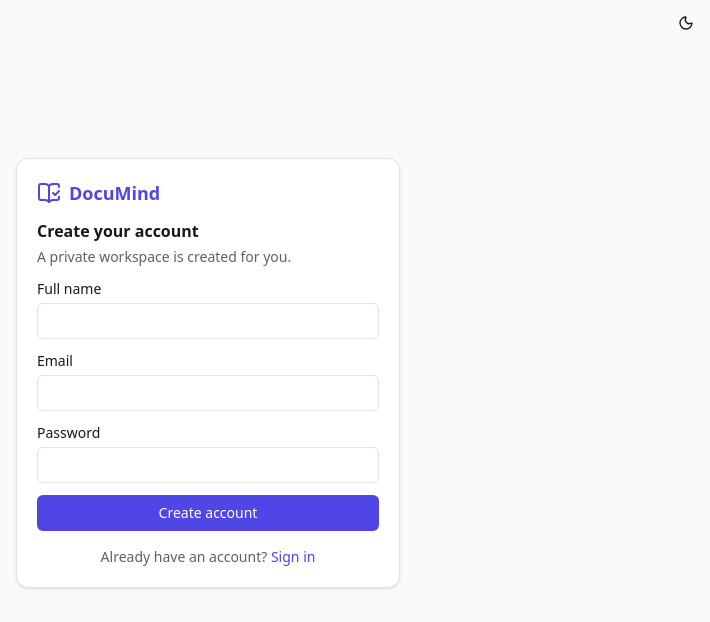
Scenario: AuthForm › shows the server error message on failure
Type "Ada" into the field labelled "Full name". click: {"x": 208, "y": 321}
box: [37,303,379,339]
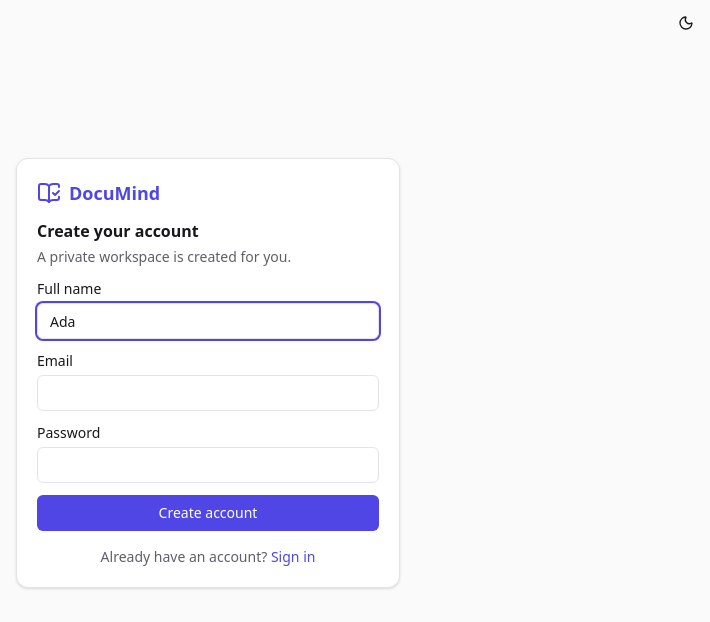
Type "ada@example.com" into the field labelled "Email". click: {"x": 208, "y": 393}
box: [37,375,379,411]
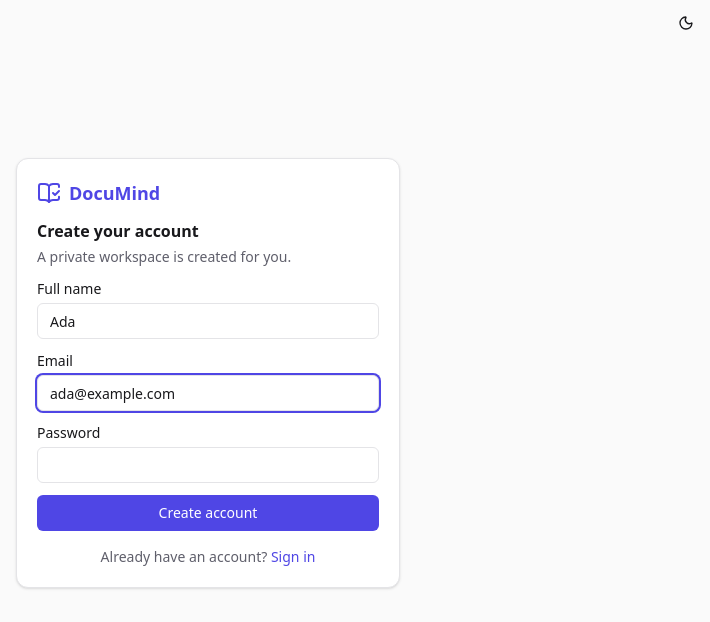
Type "longpassword" into the password field labelled "Password". click: {"x": 208, "y": 465}
box: [37,447,379,483]
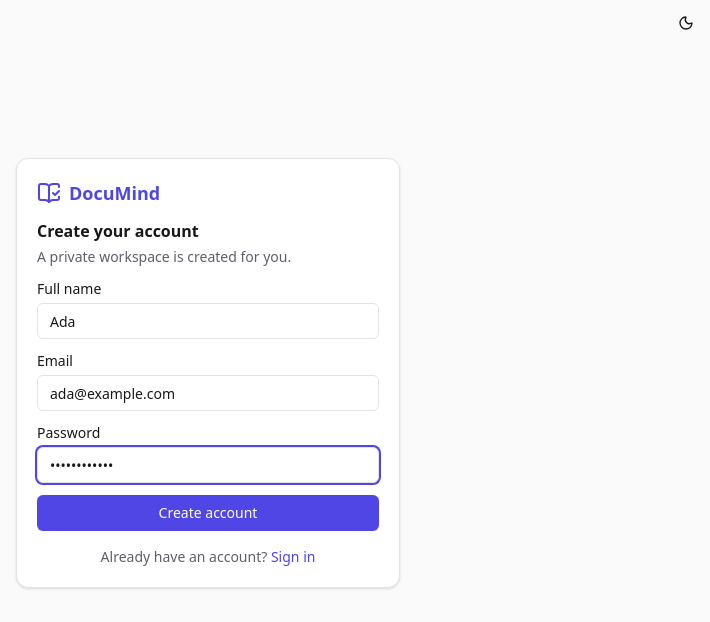
Click the button "Create account". click: {"x": 208, "y": 513}
box: [37,495,379,531]
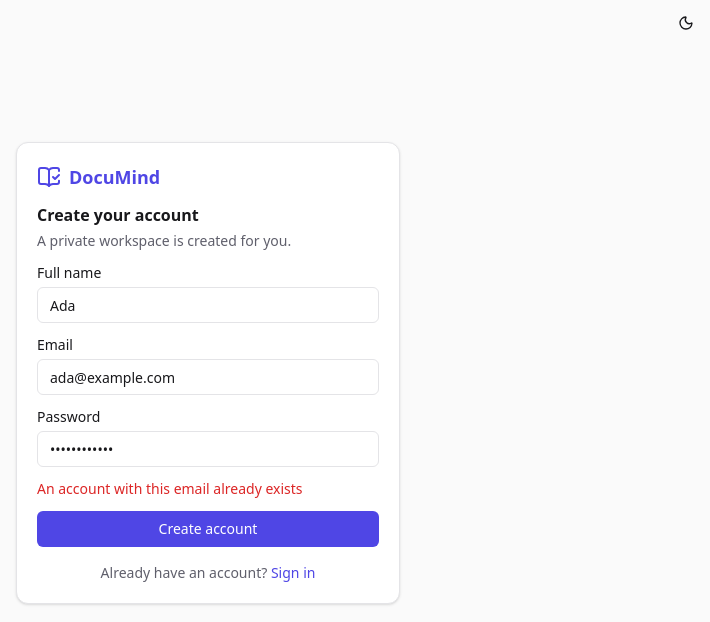
Expected: the message shows "already exists", [37,479,302,498]
